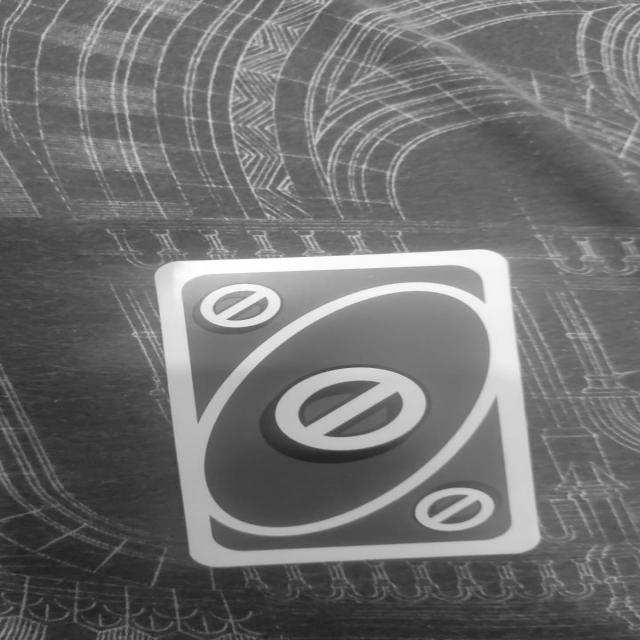skip_card: (153, 248, 540, 568)
